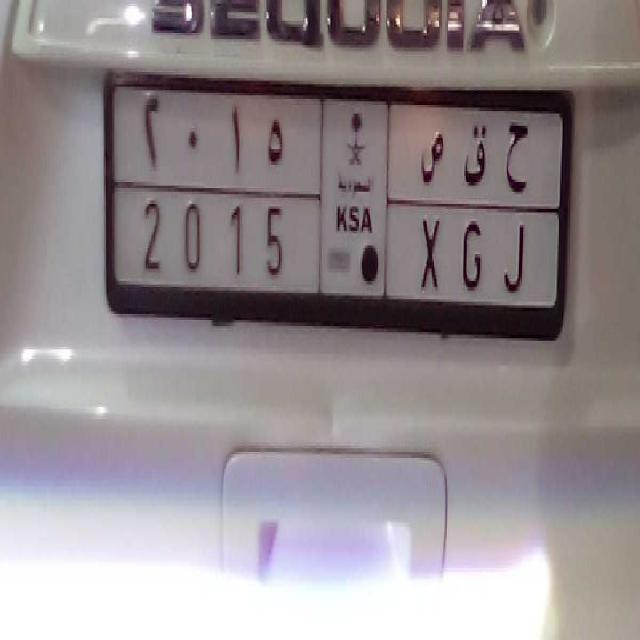license_plate: (121, 183, 540, 342)
